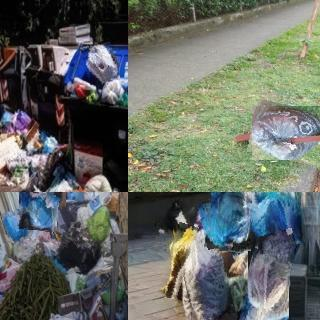Garbage: (174, 203, 230, 320), (243, 230, 293, 320), (249, 102, 320, 163), (248, 192, 299, 252), (207, 192, 254, 252), (52, 220, 103, 274), (163, 223, 193, 300), (18, 193, 59, 232), (82, 41, 118, 85), (3, 209, 29, 242), (91, 205, 109, 243), (37, 192, 68, 209)
